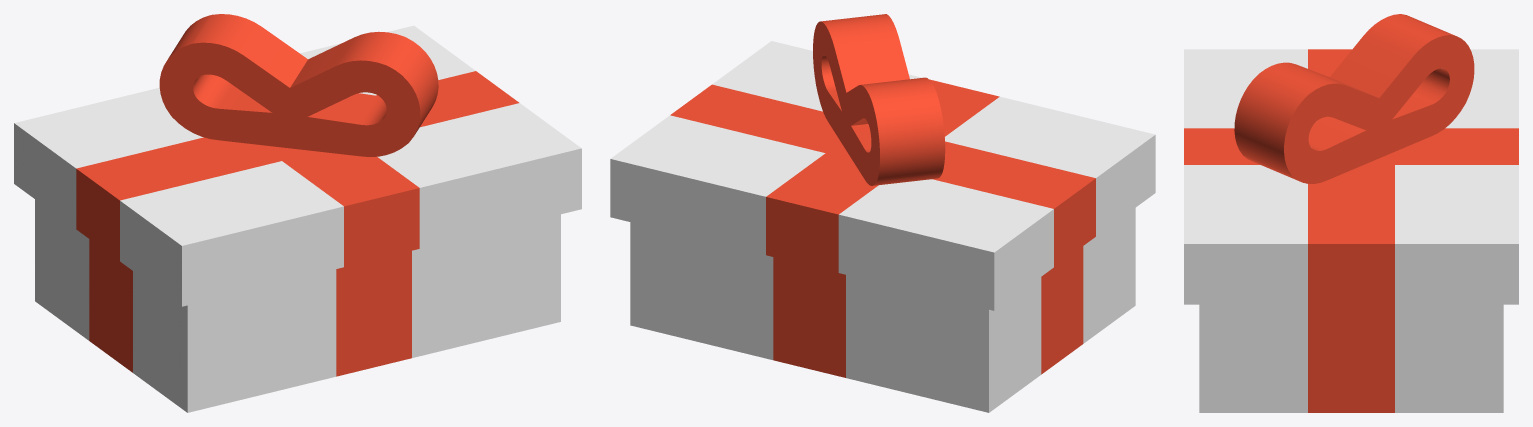
File: presentLow.dae
3 renders of one model, left to right at view 1: azimuth 30°, elevation 25°; view 2: azimuth 150°, elevation 25°; view 3: azimuth 270°, elevation 25°, orthographic. The views are drawn at different scales.
Visible parts, largest first — view 1: lid, presentLow; view 2: lid, presentLow; view 3: lid, presentLow.
Part boxes in pixels (x1,y1,x2,y2): lid: [14, 14, 581, 306]; presentLow: [35, 199, 560, 412]; lid: [610, 14, 1155, 310]; presentLow: [630, 208, 1135, 412]; lid: [1184, 14, 1518, 304]; presentLow: [1199, 304, 1503, 412].
Size of the model in its own units: 0.5127 by 0.3335 by 0.3727.
